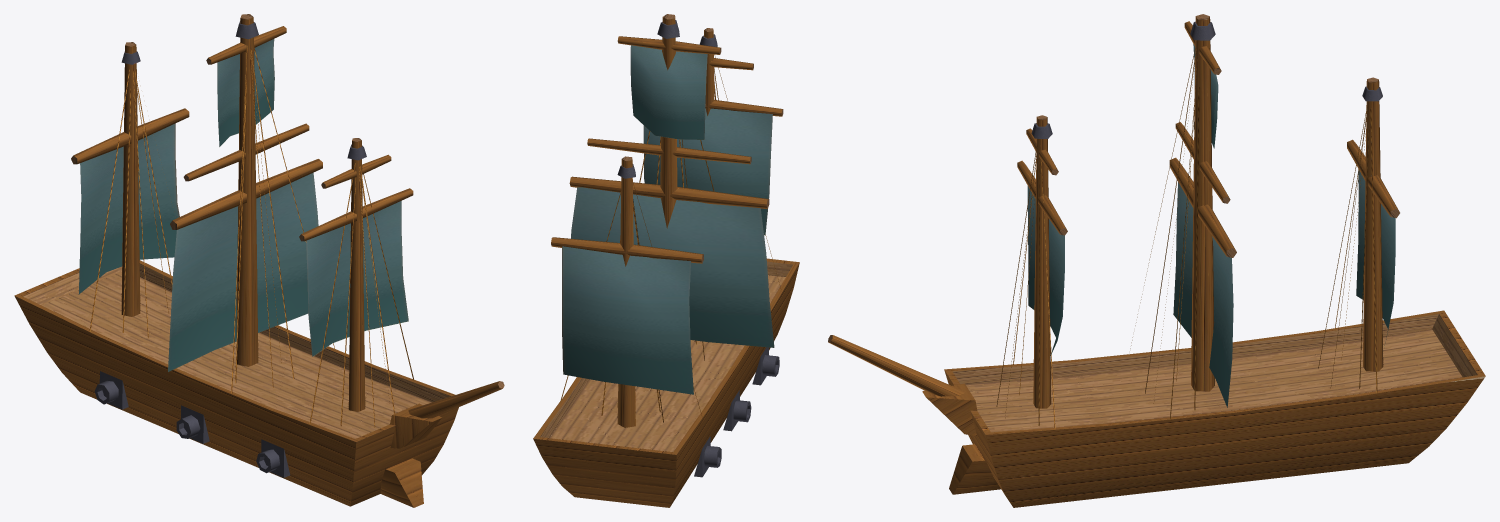
Rendered from Barca3.fbx.
The picture shows the model from 3 angles, left to right: view 1: azimuth 30°, elevation 25°; view 2: azimuth 150°, elevation 25°; view 3: azimuth 270°, elevation 25°; orthographic projection. The views are drawn at different scales.
Visible parts, largest first — view 1: defaultMaterial.016; view 2: defaultMaterial.016; view 3: defaultMaterial.016.
Boxes of the visible parts, x1=… form: defaultMaterial.016: x1=14, y1=14, x2=504, y2=507; defaultMaterial.016: x1=533, y1=14, x2=799, y2=507; defaultMaterial.016: x1=828, y1=14, x2=1485, y2=507.
Size of the model in its own units: 7.77 by 13.2 by 17.65.
